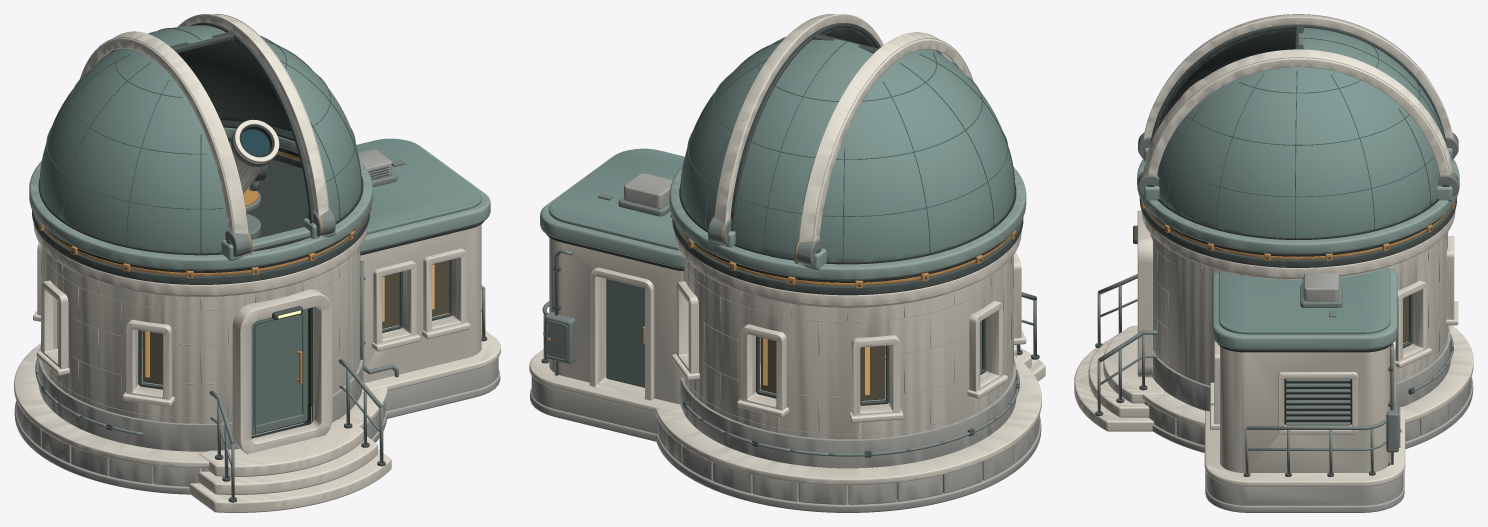
The model's file is mountain_observatory.glb.
The picture shows the model from 3 angles, left to right: view 1: azimuth 30°, elevation 25°; view 2: azimuth 150°, elevation 25°; view 3: azimuth 270°, elevation 25°; orthographic projection. The views are drawn at different scales.
Visible parts, largest first — view 1: Dome west continuous shell, Rotunda masonry | true hollow wall, Dome east continuous shell, Annex solid rounded masonry, Entry thick rounded limestone surround, Dome sage flared equatorial rim, Annex shallow raised roof, Rotunda lower gray plinth, Entry recessed sage door, Circular paved perimeter cap, Shutter thick ivory curved rail -1, Entry curved stair 3 (+34 smaller); view 2: Rotunda masonry | true hollow wall, Dome west continuous shell, Dome closed rear shutter panel, Rotunda lower gray plinth, Annex solid rounded masonry, Circular paved perimeter cap, Annex shallow raised roof, Dome sage flared equatorial rim, Dome east continuous shell, Shutter thick ivory curved rail -1, Shutter thick ivory curved rail 1, Top dressed limestone cornice (+29 smaller); view 3: Dome east continuous shell, Annex solid rounded masonry, Rotunda masonry | true hollow wall, Annex shallow raised roof, Shutter thick ivory curved rail 1, Dome sage flared equatorial rim, Shutter thick ivory curved rail -1, Annex terrace pale coping, Annex rounded sage roof fascia, Annex terrace plinth, Circular paved perimeter cap, Top dressed limestone cornice (+27 smaller).
Part boxes in pixels (x1=…): Dome west continuous shell: x1=40, y1=48, x2=228, y2=253; Rotunda masonry | true hollow wall: x1=41, y1=247, x2=360, y2=424; Dome east continuous shell: x1=178, y1=37, x2=361, y2=221; Annex solid rounded masonry: x1=360, y1=224, x2=481, y2=382; Entry thick rounded limestone surround: x1=232, y1=289, x2=332, y2=454; Dome sage flared equatorial rim: x1=29, y1=127, x2=372, y2=270; Annex shallow raised roof: x1=356, y1=138, x2=482, y2=234; Rotunda lower gray plinth: x1=38, y1=345, x2=363, y2=451; Entry recessed sage door: x1=251, y1=309, x2=307, y2=435; Circular paved perimeter cap: x1=14, y1=343, x2=387, y2=467; Shutter thick ivory curved rail -1: x1=80, y1=31, x2=249, y2=255; Entry curved stair 3: x1=199, y1=417, x2=363, y2=476; Rotunda masonry | true hollow wall: x1=683, y1=255, x2=1013, y2=439; Dome west continuous shell: x1=819, y1=49, x2=1014, y2=262; Dome closed rear shutter panel: x1=734, y1=39, x2=872, y2=258; Rotunda lower gray plinth: x1=680, y1=358, x2=1016, y2=468; Annex solid rounded masonry: x1=549, y1=237, x2=760, y2=404; Circular paved perimeter cap: x1=655, y1=356, x2=1041, y2=485; Annex shallow raised roof: x1=548, y1=148, x2=684, y2=250; Dome sage flared equatorial rim: x1=669, y1=166, x2=1026, y2=280; Dome east continuous shell: x1=681, y1=27, x2=875, y2=229; Shutter thick ivory curved rail -1: x1=798, y1=32, x2=972, y2=265; Shutter thick ivory curved rail 1: x1=715, y1=14, x2=883, y2=246; Top dressed limestone cornice: x1=674, y1=231, x2=1021, y2=306; Dome east continuous shell: x1=1157, y1=67, x2=1439, y2=238; Annex solid rounded masonry: x1=1220, y1=346, x2=1389, y2=472; Rotunda masonry | true hollow wall: x1=1150, y1=232, x2=1447, y2=385; Annex shallow raised roof: x1=1219, y1=267, x2=1390, y2=334; Shutter thick ivory curved rail 1: x1=1143, y1=49, x2=1453, y2=176; Dome sage flared equatorial rim: x1=1137, y1=158, x2=1459, y2=254; Shutter thick ivory curved rail -1: x1=1141, y1=14, x2=1454, y2=158; Annex terrace pale coping: x1=1204, y1=406, x2=1405, y2=486; Annex rounded sage roof fascia: x1=1212, y1=269, x2=1397, y2=349; Annex terrace plinth: x1=1206, y1=473, x2=1403, y2=505; Circular paved perimeter cap: x1=1142, y1=325, x2=1473, y2=427; Top dressed limestone cornice: x1=1141, y1=210, x2=1455, y2=278.
Bounding box in the file's own units: 7.05 × 5.99 × 6.06.
